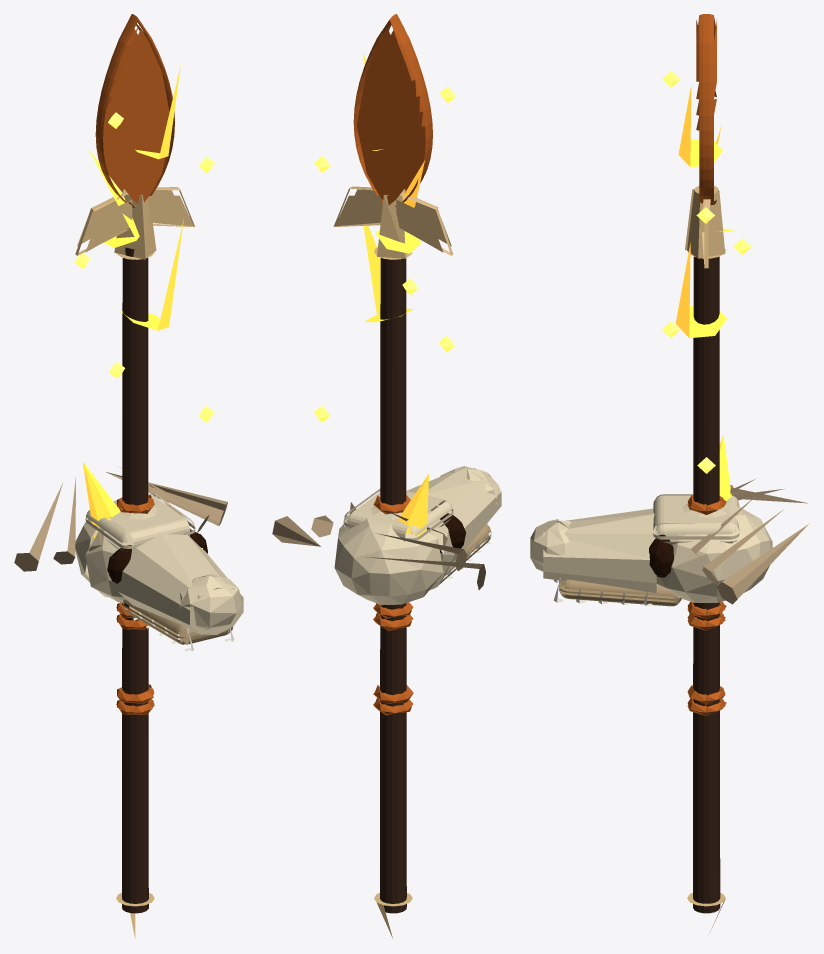
File: dragontongue_spear.glb
3 renders of one model, left to right at view 1: azimuth 30°, elevation 25°; view 2: azimuth 150°, elevation 25°; view 3: azimuth 270°, elevation 25°, orthographic.
Parts seen in each view (by area): view 1: dragontongue_spear; view 2: dragontongue_spear; view 3: dragontongue_spear.
Part boxes in pixels (x1,y1,x2,y2): dragontongue_spear: (14, 14, 243, 938); dragontongue_spear: (272, 14, 501, 938); dragontongue_spear: (530, 14, 808, 930).
Bounding box in the file's own units: 0.6646 × 2.78 × 0.7596.
